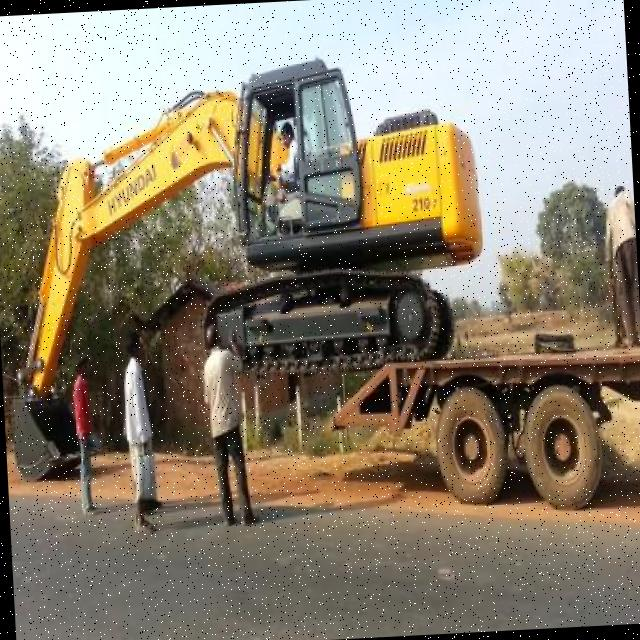Excavator: (0, 40, 496, 488)
